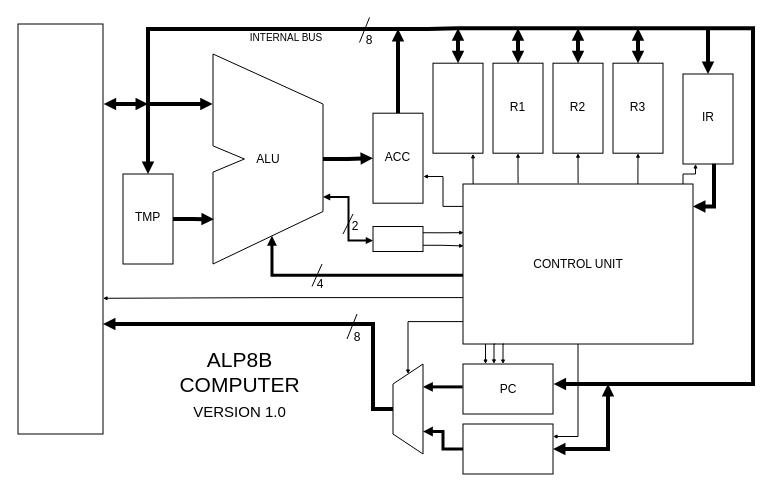
Some shapes in this 780 by 492 pixel diagram are drawn without their labels. The shapes that lost their labels are listed below. From the top down, each one's centre as x and y in pixels, then its label:
(x=457, y=107): R0
(x=60, y=228): MEMORY
(x=397, y=239): FLGS
(x=407, y=408): MUX
(x=507, y=448): MAR
